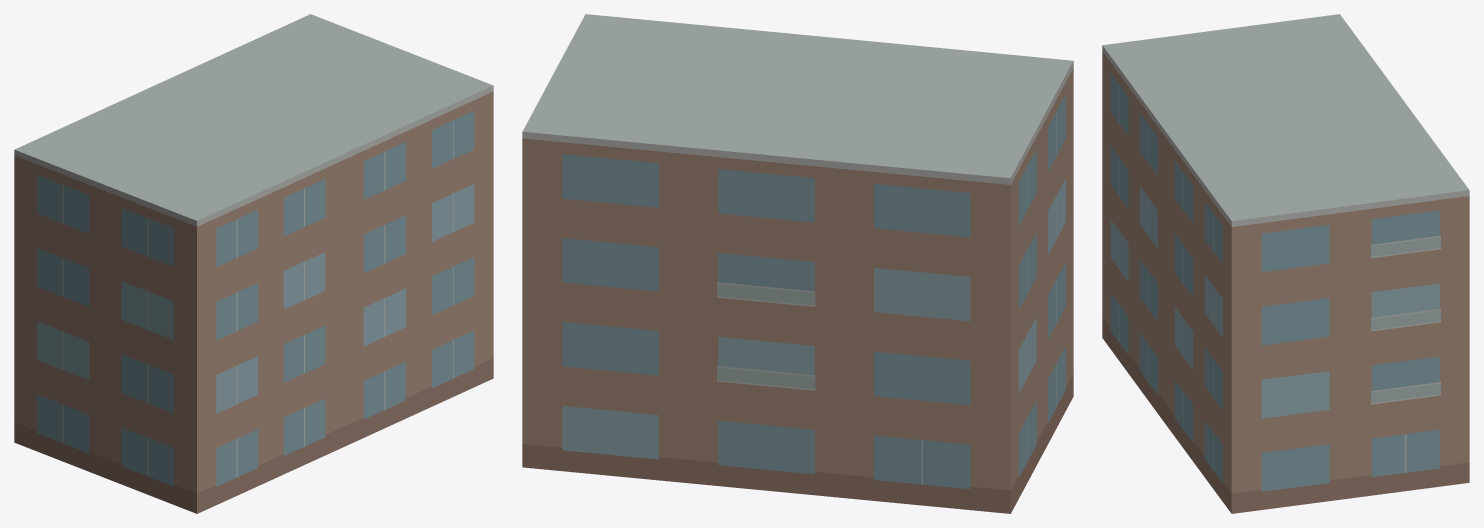
Rendered from residential-6d317322-b46c-46c8-9dc0-5432933d5a04.glb.
3 renders of one model, left to right at view 1: azimuth 30°, elevation 25°; view 2: azimuth 150°, elevation 25°; view 3: azimuth 270°, elevation 25°, orthographic. The views are drawn at different scales.
Parts seen in each view (by area): view 1: residential-6d317322-b46c-46c8-9dc0-5432933d5a04.tmp; view 2: residential-6d317322-b46c-46c8-9dc0-5432933d5a04.tmp; view 3: residential-6d317322-b46c-46c8-9dc0-5432933d5a04.tmp.
Boxes of the visible parts, <box> form: residential-6d317322-b46c-46c8-9dc0-5432933d5a04.tmp: <box>14,14,493,513</box>; residential-6d317322-b46c-46c8-9dc0-5432933d5a04.tmp: <box>522,14,1073,513</box>; residential-6d317322-b46c-46c8-9dc0-5432933d5a04.tmp: <box>1102,14,1469,513</box>.
Size of the model in its own units: 18.54 by 12.2 by 13.88.
